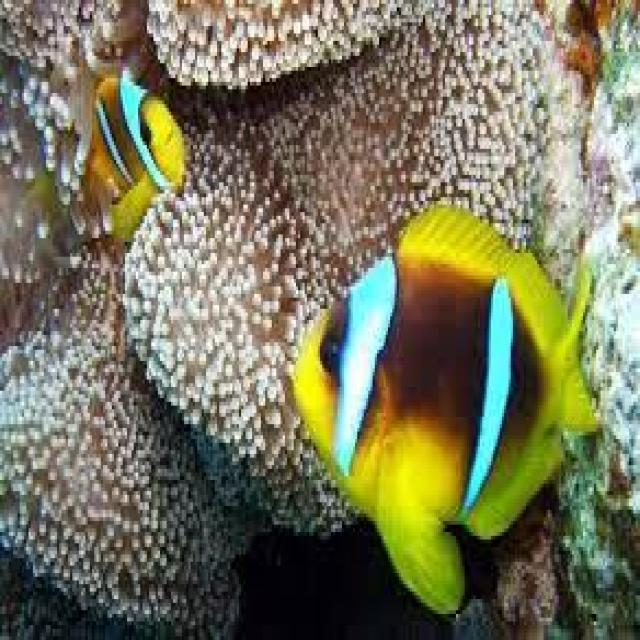Clownfish: (294, 208, 598, 611), (57, 85, 184, 237)
